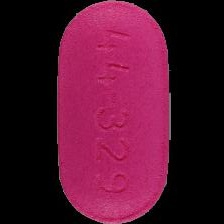68151-2908: (0, 0, 224, 224)
